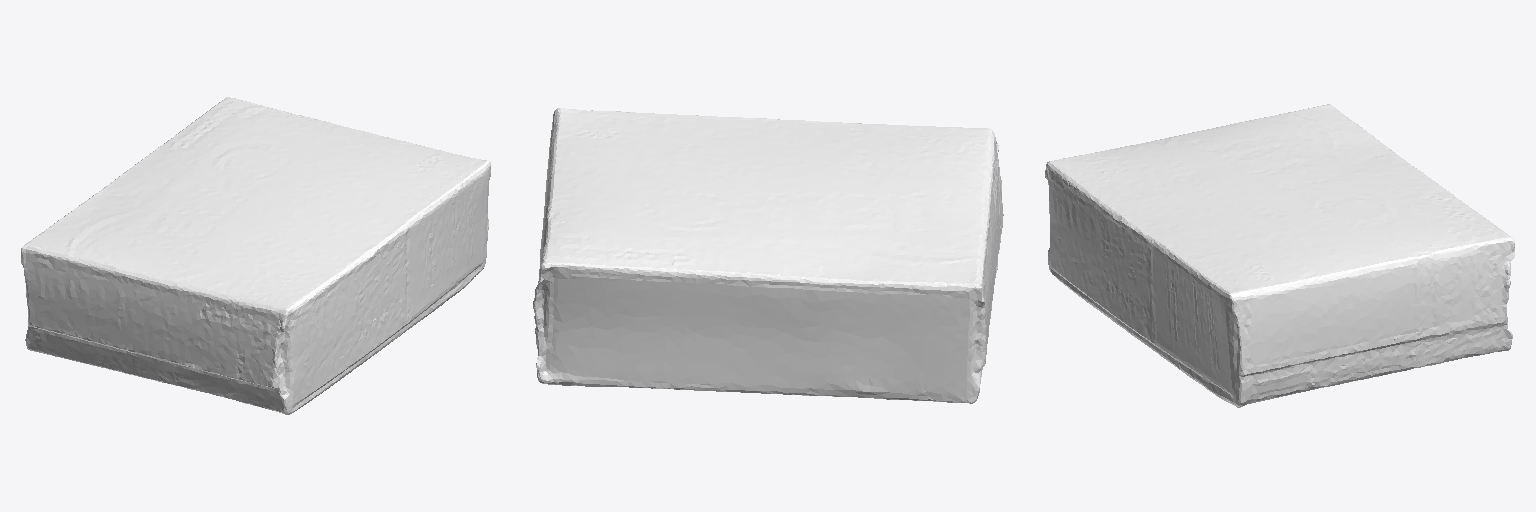
The robot description file, URDF, robot "008_pudding_box":
<?xml version="1.0" ?>
<robot name="008_pudding_box">
    <link name="baseLink">
        <contact>
        <friction_anchor/>
        <lateral_friction value="1.5"/>
        <rolling_friction value="0.1"/>
        <spinning_friction value="0.1"/>
        <contact_cfm value="1e-5"/>
        <contact_erp value="0.8"/>
        </contact>
        <visual>
            <origin rpy="0 0 0" xyz="0 0 0"/>
            <geometry>
                <mesh filename="assets/objects/008_pudding_box/meshes/008_pudding_box_textured.obj" scale="1 1 1"/>
            </geometry>
            <material name="white">
                <color rgba="1 1 1 1"/>
            </material>
        </visual>
        <collision>
            <origin rpy="0 0 0" xyz="0 0 0"/>
            <geometry>
                <mesh filename="assets/objects/008_pudding_box/meshes/008_pudding_box_textured.obj" scale="1 1 1"/>
            </geometry>
        </collision>
        <inertial>
            <origin rpy="0 0 0" xyz="0 0 0"/>
            <mass value="1.0"/>
            <inertia ixx="0.1" ixy="0" ixz="0" iyy="0.1" iyz="0" izz="0.1"/>
        </inertial>
    </link>
</robot>

--- What the picture shows (computed from the rendered views, not written in the file) ---
The picture shows the robot from 3 angles, left to right: view 1: azimuth 30°, elevation 25°; view 2: azimuth 150°, elevation 25°; view 3: azimuth 270°, elevation 25°; orthographic projection.
Model 008_pudding_box with 1 links and 0 joints (none), rooted at baseLink, posed every joint at zero.
Visible links, largest first — view 1: baseLink; view 2: baseLink; view 3: baseLink.
Link boxes in pixels (x1,y1,x2,y2): baseLink: [21, 97, 490, 414]; baseLink: [533, 108, 1003, 403]; baseLink: [1045, 104, 1514, 407].
Size in the robot's own frame: 0.1379 by 0.1288 by 0.0389 metres.
1 mesh visuals loaded from 1 distinct referenced files (1 OBJ).
